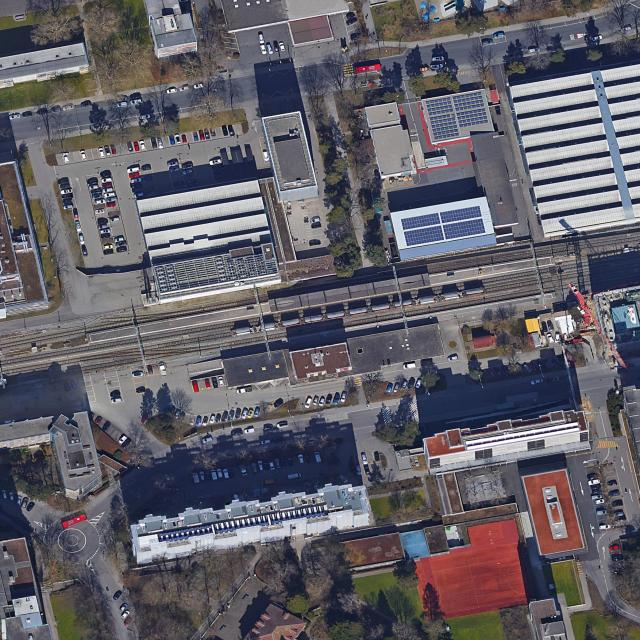large-vehicle: (62, 514, 87, 528), (355, 64, 382, 73), (236, 387, 253, 394), (260, 479, 276, 486), (239, 464, 248, 476), (287, 473, 302, 480), (159, 363, 167, 376), (192, 380, 200, 392), (210, 469, 218, 480), (192, 473, 200, 484), (314, 452, 322, 462), (403, 363, 416, 369), (223, 469, 230, 479), (217, 469, 223, 478)
small-vehicle: (529, 378, 545, 387), (272, 398, 285, 409), (407, 377, 417, 390), (346, 16, 359, 26), (399, 380, 409, 392), (337, 473, 349, 483), (350, 33, 363, 41), (588, 478, 601, 486), (123, 616, 133, 626), (487, 368, 497, 378), (227, 125, 236, 136), (121, 439, 132, 448), (360, 453, 369, 464), (276, 422, 290, 429), (610, 554, 624, 561), (620, 25, 632, 33), (586, 473, 598, 481), (591, 34, 603, 42), (209, 159, 222, 166), (611, 501, 624, 508), (599, 524, 612, 531), (118, 435, 128, 444), (113, 590, 122, 600), (26, 502, 35, 512), (493, 366, 503, 375), (530, 361, 540, 370), (522, 362, 532, 371), (221, 125, 229, 136), (21, 497, 29, 508), (104, 146, 112, 157), (141, 414, 149, 425), (501, 367, 512, 375), (259, 44, 267, 55), (297, 454, 305, 465), (61, 188, 73, 195), (212, 378, 219, 390), (263, 150, 270, 162), (418, 66, 432, 72), (541, 320, 548, 332), (102, 422, 111, 431), (121, 610, 130, 619), (119, 603, 128, 612), (79, 151, 87, 161), (241, 409, 249, 419), (127, 167, 140, 173), (130, 183, 143, 189), (166, 161, 179, 167), (94, 199, 107, 205), (614, 516, 627, 522), (172, 180, 185, 186), (431, 56, 444, 62), (494, 104, 501, 115), (175, 134, 182, 145), (81, 246, 88, 257), (146, 365, 153, 376), (345, 12, 356, 19), (305, 397, 312, 408), (613, 510, 624, 517), (608, 491, 619, 498), (607, 480, 618, 487), (546, 320, 553, 331), (547, 333, 554, 344), (130, 178, 142, 184), (95, 416, 103, 425), (132, 372, 144, 378), (130, 99, 142, 105), (9, 114, 21, 120), (151, 137, 157, 149), (164, 405, 172, 414), (173, 410, 181, 419), (193, 83, 205, 89), (179, 86, 191, 92), (165, 88, 177, 94), (211, 163, 223, 169), (493, 32, 505, 38), (431, 64, 443, 70), (325, 395, 333, 404), (221, 413, 229, 422), (363, 466, 371, 475), (268, 462, 276, 471), (168, 135, 175, 145), (157, 139, 164, 149), (98, 148, 105, 158), (189, 416, 196, 426), (218, 377, 225, 387), (273, 42, 280, 52), (266, 44, 273, 54), (415, 379, 422, 389), (247, 409, 254, 419), (228, 411, 235, 421), (251, 463, 258, 473), (183, 169, 194, 175), (37, 109, 48, 115), (21, 112, 32, 118), (140, 140, 146, 151), (202, 437, 213, 443), (232, 430, 243, 436), (263, 425, 274, 431), (591, 494, 602, 500), (186, 178, 197, 184), (311, 222, 322, 228), (244, 428, 255, 434), (528, 47, 539, 53), (596, 509, 607, 515), (374, 451, 380, 462), (199, 471, 205, 482), (258, 460, 264, 471), (103, 193, 116, 198), (62, 105, 75, 110), (308, 240, 321, 245), (195, 418, 202, 427), (63, 154, 70, 163), (127, 143, 134, 152), (169, 406, 176, 415), (70, 381, 77, 390), (63, 383, 70, 392), (386, 384, 393, 393), (333, 395, 340, 404), (319, 398, 326, 407), (356, 465, 363, 474), (305, 453, 312, 462), (16, 496, 22, 506), (182, 164, 194, 169), (170, 166, 180, 172), (140, 114, 150, 120), (116, 97, 128, 102), (79, 235, 85, 245), (75, 222, 81, 232), (111, 145, 117, 155), (110, 391, 120, 397), (205, 379, 211, 389), (212, 169, 224, 174), (374, 169, 380, 179), (592, 489, 602, 495), (279, 42, 285, 52), (235, 409, 241, 419), (482, 39, 492, 45), (287, 457, 293, 467), (275, 458, 281, 468), (260, 439, 270, 445), (209, 416, 216, 424), (393, 384, 400, 392), (253, 409, 260, 417), (101, 173, 112, 178), (129, 173, 140, 178), (102, 178, 113, 183), (107, 197, 118, 202), (134, 193, 145, 198), (142, 176, 153, 181), (135, 388, 146, 393), (111, 398, 122, 403), (141, 166, 152, 171), (100, 234, 111, 239), (99, 229, 110, 234), (130, 94, 141, 99), (94, 209, 105, 214), (91, 190, 102, 195), (58, 179, 69, 184), (310, 218, 321, 223), (199, 131, 205, 140), (193, 132, 199, 141), (115, 237, 124, 243), (98, 224, 107, 230), (73, 210, 79, 219), (134, 142, 140, 151), (609, 545, 618, 551), (595, 498, 604, 504), (341, 393, 347, 402), (215, 414, 221, 423), (280, 458, 286, 467), (229, 469, 235, 478), (205, 129, 210, 139), (182, 134, 187, 144), (103, 188, 113, 193), (106, 203, 116, 208), (104, 250, 114, 255), (2, 490, 7, 500), (9, 492, 14, 502), (117, 102, 127, 107), (81, 103, 91, 108), (89, 185, 99, 190), (87, 180, 97, 185), (60, 184, 70, 189), (62, 194, 72, 199), (555, 333, 560, 343), (259, 34, 264, 44), (448, 356, 458, 361), (210, 129, 216, 137), (202, 418, 208, 426), (214, 175, 226, 179), (104, 245, 113, 250), (93, 195, 102, 200), (63, 199, 72, 204), (313, 397, 318, 406), (102, 183, 112, 187), (110, 218, 120, 222), (116, 242, 126, 246), (52, 108, 62, 112), (63, 205, 73, 209), (118, 248, 126, 252)
